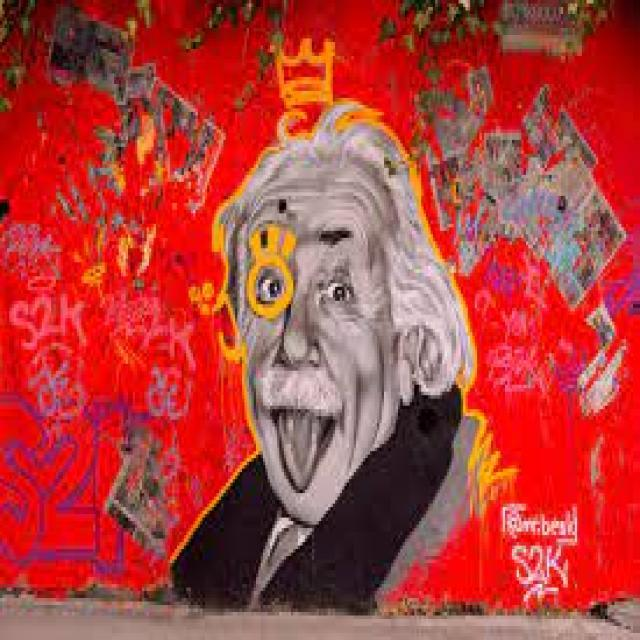-: (170, 38, 516, 612), (1, 396, 134, 576), (500, 504, 582, 600)
